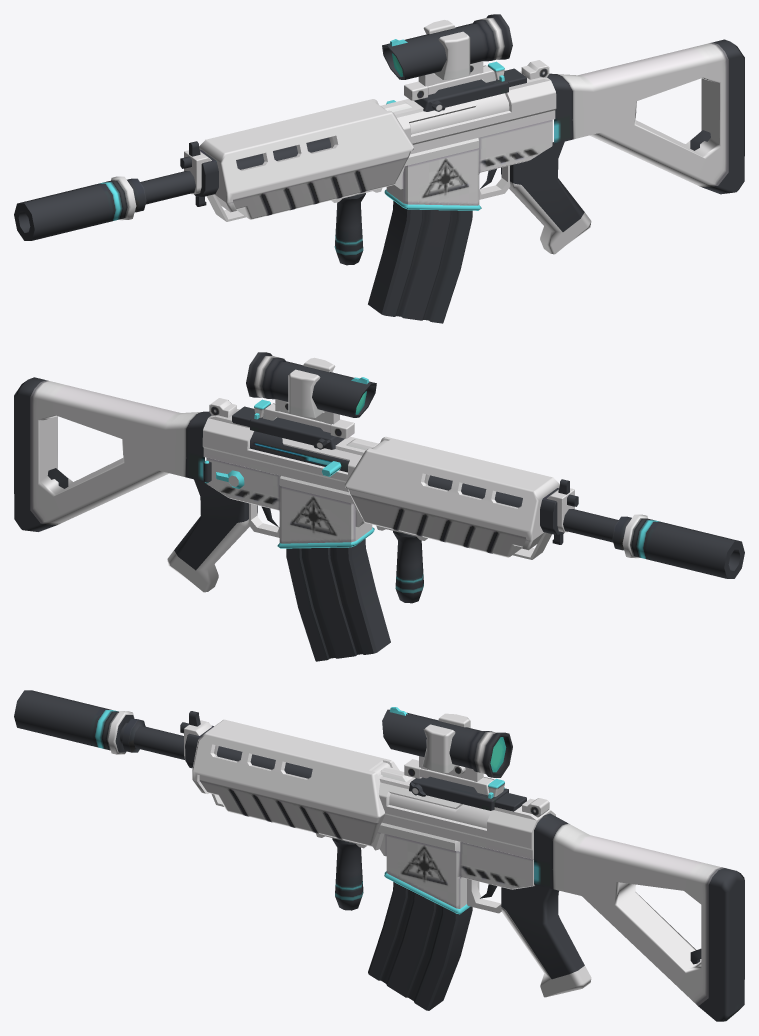
File: shiroko_weapon.gltf
3 views of the same model, one above another, from view 1: azimuth 30°, elevation 25°; view 2: azimuth 150°, elevation 25°; view 3: azimuth 330°, elevation 25° (orthographic).
Parts seen in each view (by area): view 1: Shiroko_Original_Weapon_Shiroko_Original_Weapon_0; view 2: Shiroko_Original_Weapon_Shiroko_Original_Weapon_0; view 3: Shiroko_Original_Weapon_Shiroko_Original_Weapon_0.
Part boxes in pixels (box(x1,y1,x2,y2)): Shiroko_Original_Weapon_Shiroko_Original_Weapon_0: box(14, 14, 744, 323); Shiroko_Original_Weapon_Shiroko_Original_Weapon_0: box(14, 352, 744, 661); Shiroko_Original_Weapon_Shiroko_Original_Weapon_0: box(14, 690, 744, 1021).
Size of the model in its own units: 0.5707 by 0.2205 by 0.0545.
Materials: 1 (1 with a texture image).
